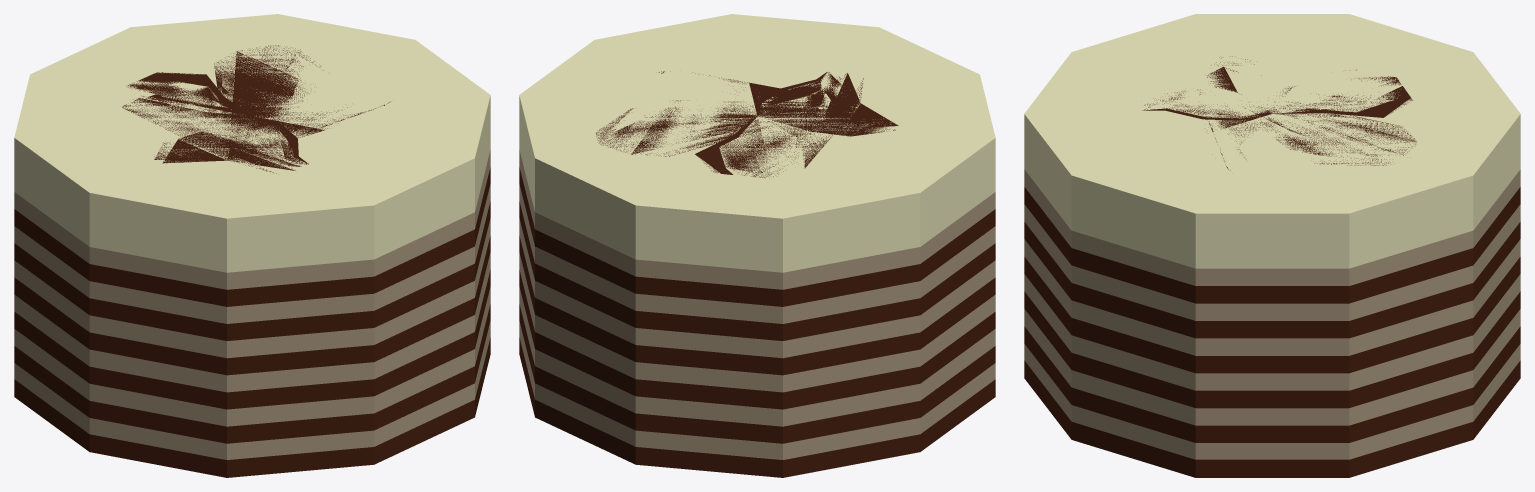
The model's file is TripleChocolateState0.fbx.
3 renders of one model, left to right at view 1: azimuth 30°, elevation 25°; view 2: azimuth 150°, elevation 25°; view 3: azimuth 270°, elevation 25°, orthographic.
Parts seen in each view (by area): view 1: TripleChocolateState0; view 2: TripleChocolateState0; view 3: TripleChocolateState0.
Boxes of the visible parts, x1=… form: TripleChocolateState0: x1=14, y1=14, x2=490, y2=477; TripleChocolateState0: x1=519, y1=14, x2=995, y2=477; TripleChocolateState0: x1=1024, y1=14, x2=1520, y2=477.
Bounding box in the file's own units: 76.08 × 47 × 80.
